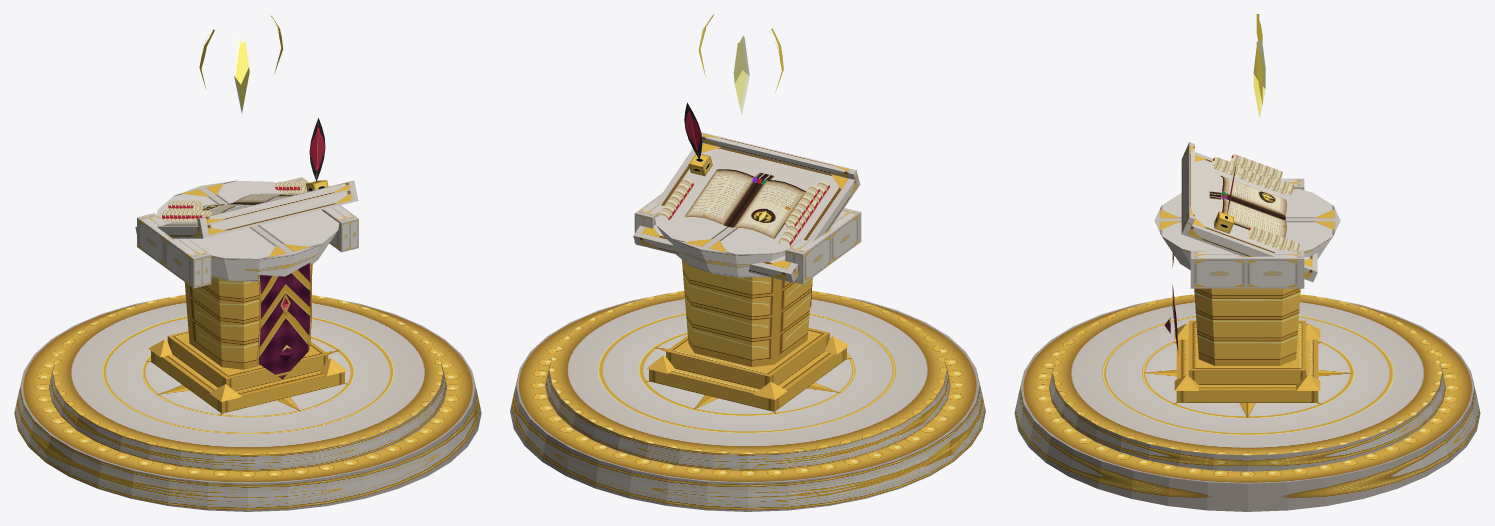
File: Lightforged_Pedestal.obj
3 views of the same model, side by side, from view 1: azimuth 30°, elevation 25°; view 2: azimuth 150°, elevation 25°; view 3: azimuth 270°, elevation 25° (orthographic). The views are drawn at different scales.
Visible parts, largest first — view 1: Lightforged_Platform_Mat, Lightforged_Pedestal_Mat, Lightforged_Cloth_Mat, Lightforged_Parchment_Mat, Lightforged_Sigil_Mat, Lightforged_Feather_Mat, Lightforged_Book_Mat; view 2: Lightforged_Platform_Mat, Lightforged_Pedestal_Mat, Lightforged_Book_Mat, Lightforged_Parchment_Mat, Lightforged_Sigil_Mat, Lightforged_Feather_Mat; view 3: Lightforged_Platform_Mat, Lightforged_Pedestal_Mat, Lightforged_Book_Mat, Lightforged_Parchment_Mat, Lightforged_Sigil_Mat.
Part boxes in pixels (bbox=[...]): Lightforged_Platform_Mat: bbox=[14, 295, 481, 511]; Lightforged_Pedestal_Mat: bbox=[135, 177, 358, 413]; Lightforged_Cloth_Mat: bbox=[257, 262, 311, 379]; Lightforged_Parchment_Mat: bbox=[162, 181, 308, 222]; Lightforged_Sigil_Mat: bbox=[199, 14, 283, 113]; Lightforged_Feather_Mat: bbox=[306, 118, 328, 191]; Lightforged_Book_Mat: bbox=[201, 193, 297, 214]; Lightforged_Platform_Mat: bbox=[510, 291, 985, 511]; Lightforged_Pedestal_Mat: bbox=[633, 132, 861, 411]; Lightforged_Book_Mat: bbox=[684, 169, 806, 238]; Lightforged_Parchment_Mat: bbox=[657, 178, 829, 246]; Lightforged_Sigil_Mat: bbox=[698, 14, 783, 115]; Lightforged_Feather_Mat: bbox=[684, 102, 712, 175]; Lightforged_Platform_Mat: bbox=[1014, 294, 1480, 511]; Lightforged_Pedestal_Mat: bbox=[1154, 142, 1340, 402]; Lightforged_Book_Mat: bbox=[1209, 176, 1286, 237]; Lightforged_Parchment_Mat: bbox=[1210, 154, 1299, 250]; Lightforged_Sigil_Mat: bbox=[1253, 14, 1265, 118].
Size of the model in its own units: 2.3 by 2.14 by 2.3.
7 materials, 7 textured.
